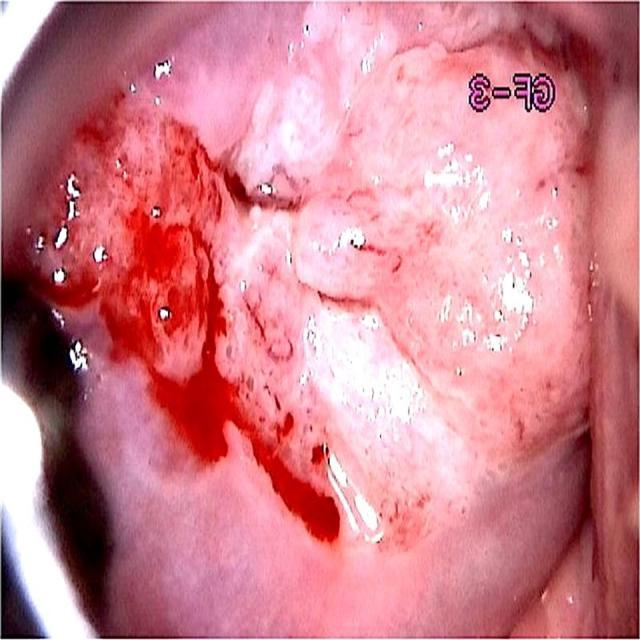cervical_lesion: (15, 85, 537, 530)
